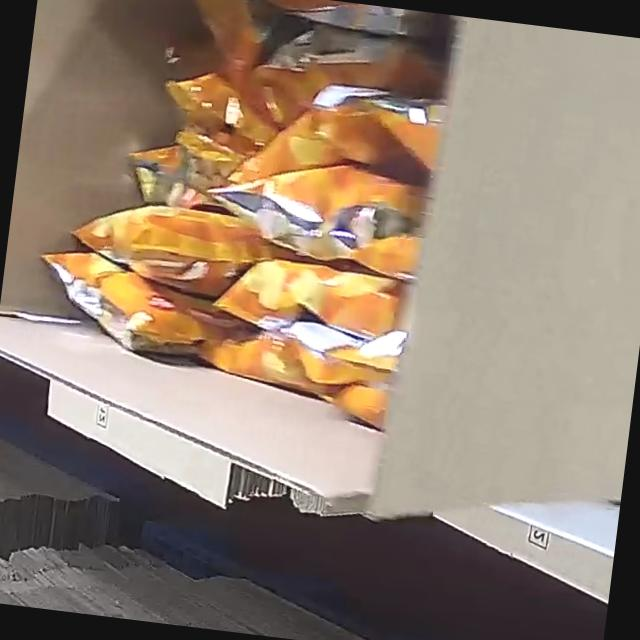cheese: (23, 0, 460, 430)
